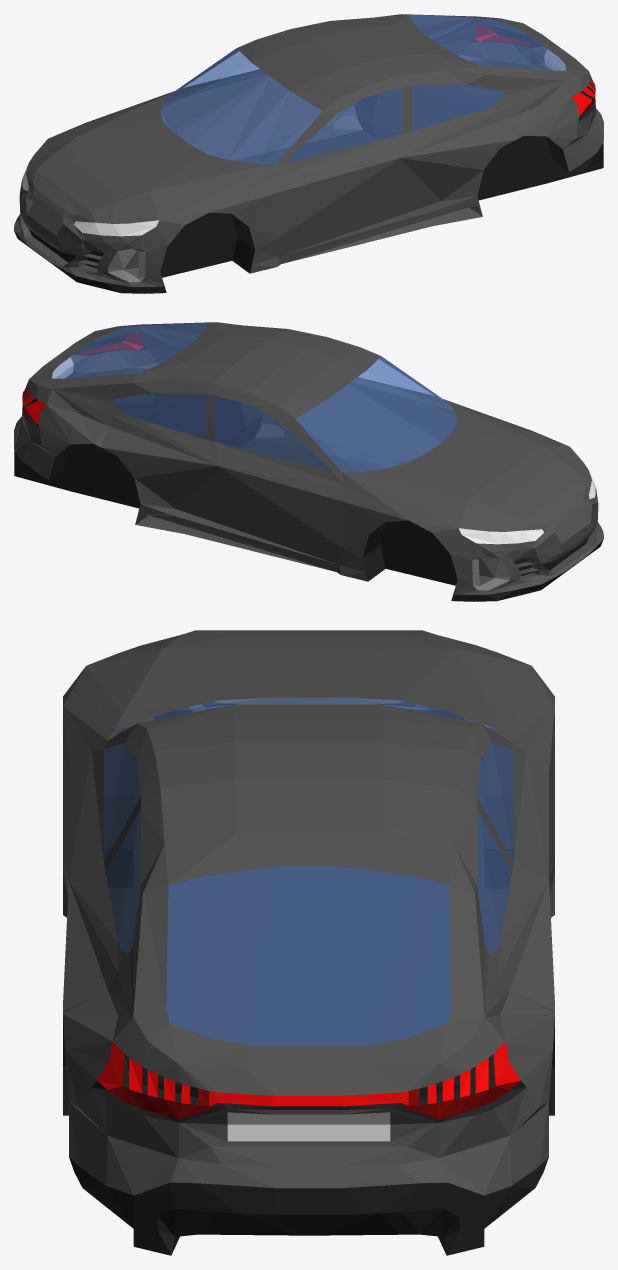
Rendered from Audi E Tron.fbx.
The picture shows the model from 3 angles, top to bottom: view 1: azimuth 30°, elevation 25°; view 2: azimuth 150°, elevation 25°; view 3: azimuth 270°, elevation 25°; orthographic projection. The views are drawn at different scales.
Visible parts, largest first — view 1: _(Loose Entity); view 2: _(Loose Entity); view 3: _(Loose Entity).
Boxes of the visible parts, x1,y1,x2,y2 form: _(Loose Entity): [14, 14, 603, 293]; _(Loose Entity): [14, 322, 603, 601]; _(Loose Entity): [63, 630, 554, 1255].
Bounding box in the file's own units: 639 × 160 × 252.
